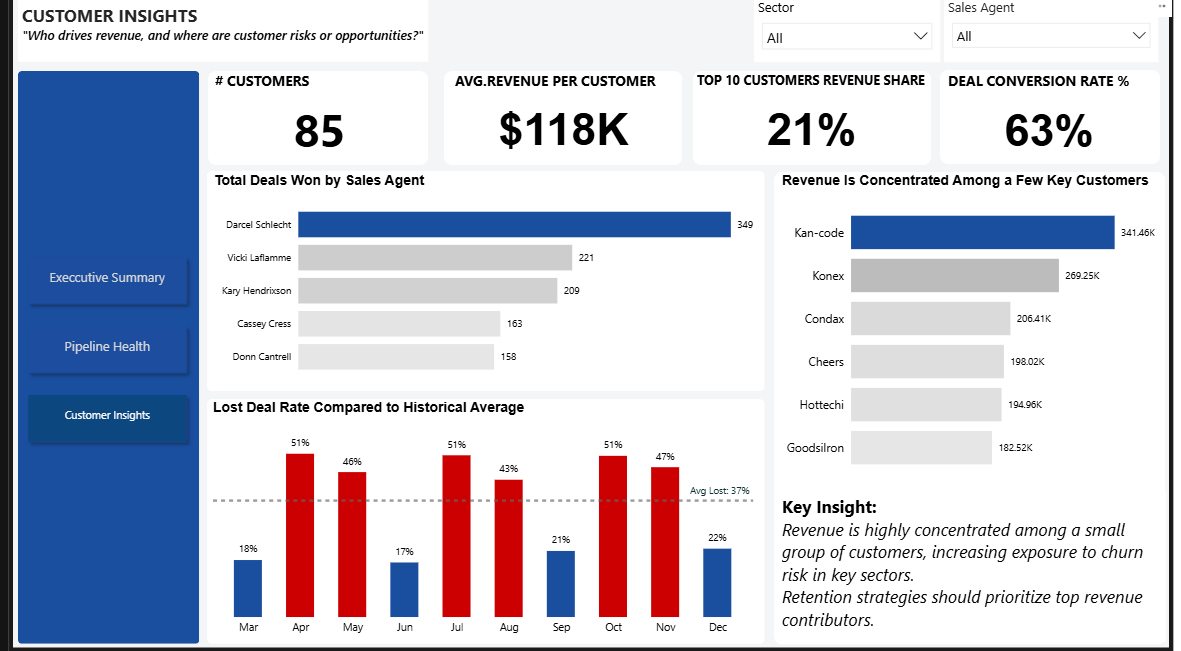

The page's visual inventory and layout, read from the dashboard file:
{"tool":"powerbi","page":{"name":"Customer Insights","canvas":[1450,820],"ordinal":9},"visuals":[{"type":"shape","box":[0,0,1450,820.4],"z":0},{"type":"shape","box":[851.5,97.2,296.7,117.2],"z":1000},{"type":"textbox","box":[11.2,8.7,511.2,77.3],"z":2000},{"type":"shape","box":[542.3,97.2,296.7,117.2],"z":3000},{"type":"shape","box":[11.7,97.3,225.7,713.5],"z":4000},{"type":"shape","box":[1159.5,96,274.3,117.2],"z":5000},{"type":"shape","box":[248.1,97.2,274.3,117.2],"z":6000},{"type":"shape","box":[952.5,222.5,487.5,588.8],"z":7000},{"type":"shape","box":[246.8,222.1,694.8,274],"z":8000},{"type":"shape","box":[246.8,505.2,694.8,305.2],"z":9000},{"type":"card","title":"AVG.REVENUE PER CUSTOMER","fields":{"Values":["DAX_measures.Avg Revenue per Customer"]},"box":[551.1,97.2,280.5,113.5],"z":10000},{"type":"card","title":"DEAL CONVERSION RATE %","fields":{"Values":["DAX_measures.Win Rate %"]},"box":[1164.5,97.2,263.1,114.7],"z":11000},{"type":"card","title":"# CUSTOMERS","fields":{"Values":["DAX_measures.Total Customers"]},"box":[251.8,97.2,270.5,117.2],"z":12000},{"type":"card","title":"TOP 10 CUSTOMERS REVENUE SHARE","fields":{"Values":["DAX_measures.Top 10 Concentration %"]},"box":[851.5,97.2,296.7,114.7],"z":13000},{"type":"clusteredColumnChart","title":"Lost Deal Rate Compared to Historical Average","fields":{"Category":["dim_Date.Month Name"],"Y":["DAX_measures.Monthly Lost Deal Rate"]},"box":[249.4,505.2,683.1,302.6],"z":14000},{"type":"clusteredBarChart","title":"Total Deals Won by Sales Agent","fields":{"Category":["dim_sales_teams.Sales_Agent"],"Y":["DAX_measures.Deals Won"]},"box":[250.6,223.4,681.8,268.8],"z":15000},{"type":"textbox","box":[957.4,620.1,482.6,188.1],"z":16000},{"type":"barChart","title":"Revenue Is Concentrated Among a Few Key Customers","fields":{"Y":["DAX_measures.Industry Revenue"],"Category":["dim_accounts.Company_Name"]},"box":[957.4,228.3,474.8,391.8],"z":17000},{"type":"pageNavigator","box":[21,350,200,250],"z":18000},{"type":"slicer","title":"Sales Agent","fields":{"Values":["dim_sales_teams.Sales_Agent"]},"box":[1165,6.5,267.2,80.4],"z":19000},{"type":"slicer","title":"Sector","fields":{"Values":["dim_accounts.Sector"]},"box":[927.6,6.5,232.2,80.4],"z":20000}]}

Visuals, with their boxes in screenshot pixels (x1, y1, x2, y2), scaled from the page's 1450x820 canvas onto the 1181x651 screenshot:
shape: crop(0, 0, 1180, 650)
shape: crop(694, 77, 935, 170)
textbox: crop(9, 7, 425, 68)
shape: crop(442, 77, 683, 170)
shape: crop(10, 77, 193, 644)
shape: crop(944, 76, 1168, 169)
shape: crop(202, 77, 425, 170)
shape: crop(776, 177, 1173, 644)
shape: crop(201, 176, 767, 394)
shape: crop(201, 401, 767, 643)
"AVG.REVENUE PER CUSTOMER" card: crop(449, 77, 677, 167)
"DEAL CONVERSION RATE %" card: crop(948, 77, 1163, 168)
"# CUSTOMERS" card: crop(205, 77, 425, 170)
"TOP 10 CUSTOMERS REVENUE SHARE" card: crop(694, 77, 935, 168)
"Lost Deal Rate Compared to Historical Average" clusteredColumnChart: crop(203, 401, 760, 641)
"Total Deals Won by Sales Agent" clusteredBarChart: crop(204, 177, 759, 391)
textbox: crop(780, 492, 1173, 642)
"Revenue Is Concentrated Among a Few Key Customers" barChart: crop(780, 181, 1167, 492)
pageNavigator: crop(17, 278, 180, 476)
"Sales Agent" slicer: crop(949, 5, 1167, 69)
"Sector" slicer: crop(756, 5, 945, 69)
